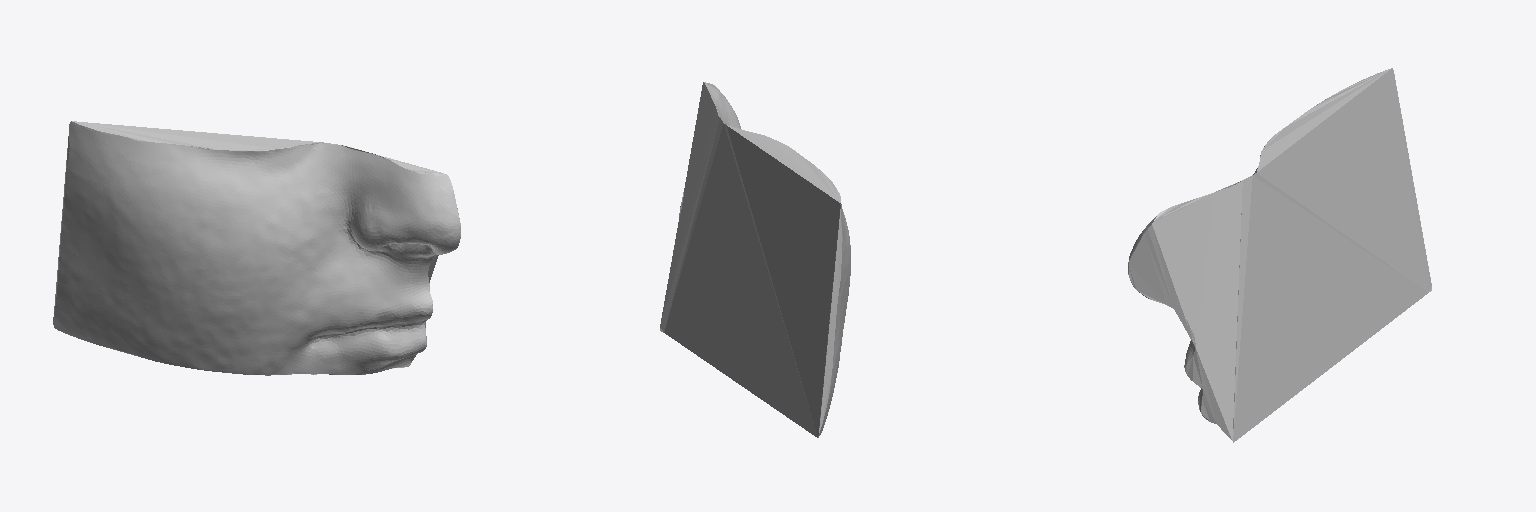
Rendered from skin_sample_textured3.obj.
3 views of the same model, side by side, from view 1: azimuth 30°, elevation 25°; view 2: azimuth 150°, elevation 25°; view 3: azimuth 270°, elevation 25° (orthographic).
Bounding box in the file's own units: 79.74 × 72.33 × 79.59.